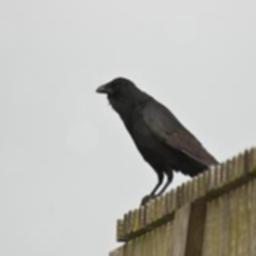Crow: (96, 74, 222, 208)
